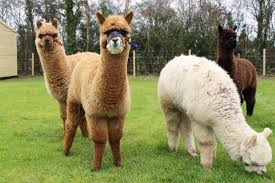alpaca: (156, 53, 274, 177), (63, 10, 135, 171), (34, 18, 89, 137), (213, 23, 258, 117)
